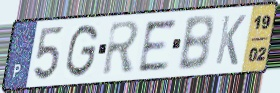5: (32, 25, 65, 82)
B: (175, 13, 215, 73)
E: (137, 17, 178, 74)
G: (64, 23, 100, 80)
K: (213, 13, 248, 67)
R: (100, 19, 143, 78)
